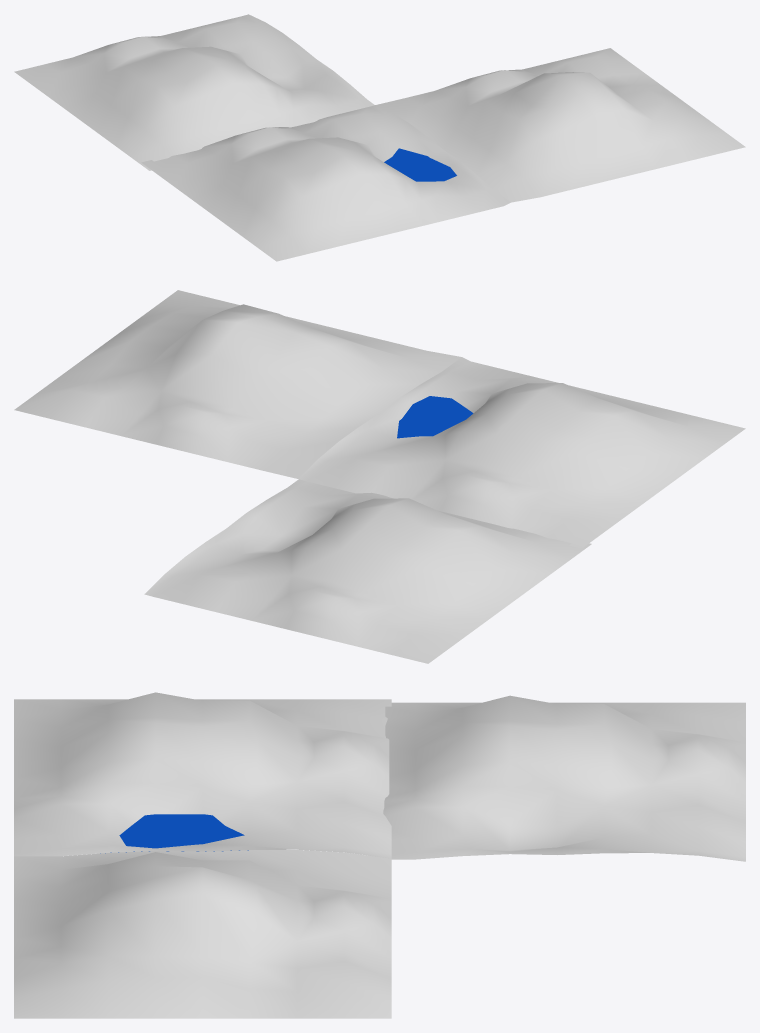
Rendered from ground_02.fbx.
3 views of the same model, one above another, from view 1: azimuth 30°, elevation 25°; view 2: azimuth 150°, elevation 25°; view 3: azimuth 270°, elevation 25° (orthographic). The views are drawn at different scales.
Visible parts, largest first — view 1: Ground_1, Ground_1.001, Ground_1.002, Plane; view 2: Ground_1.002, Ground_1, Ground_1.001, Plane; view 3: Ground_1, Ground_1.002, Ground_1.001, Plane.
Boxes of the visible parts, bbox=[...] form: Ground_1: bbox=[376, 48, 745, 202]; Ground_1.001: bbox=[141, 105, 510, 261]; Ground_1.002: bbox=[14, 14, 374, 170]; Plane: bbox=[384, 148, 456, 181]; Ground_1.002: bbox=[144, 479, 591, 663]; Ground_1: bbox=[14, 290, 461, 478]; Ground_1.001: bbox=[298, 357, 745, 548]; Plane: bbox=[397, 396, 473, 438]; Ground_1: bbox=[14, 850, 391, 1018]; Ground_1.002: bbox=[372, 695, 745, 861]; Ground_1.001: bbox=[14, 692, 391, 858]; Plane: bbox=[100, 814, 248, 853].
Bounding box in the file's own units: 4000 × 483 × 3875.
